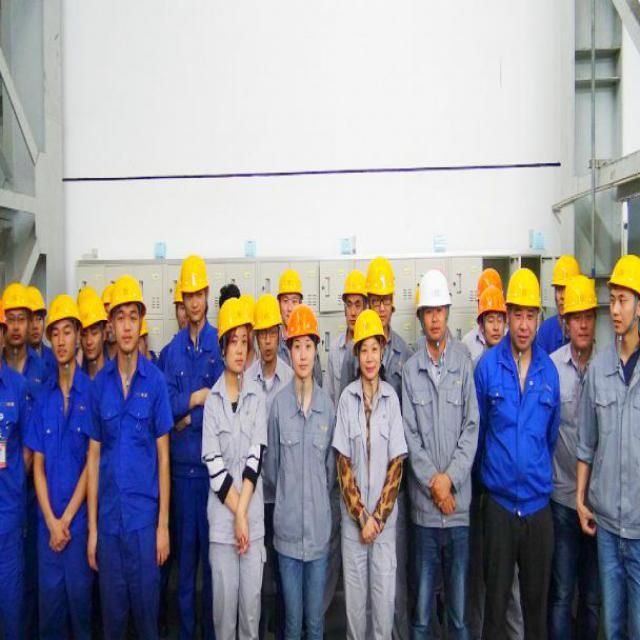helmet: (338, 252, 402, 324), (551, 255, 598, 346), (468, 259, 511, 354), (502, 256, 542, 358), (409, 267, 457, 351), (348, 307, 390, 392), (608, 250, 639, 348), (178, 244, 208, 337), (247, 288, 285, 361), (287, 303, 319, 387), (215, 293, 247, 372), (109, 276, 142, 352), (45, 293, 78, 361), (81, 285, 102, 361)
